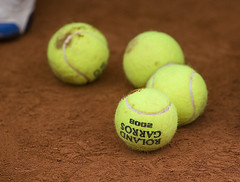tennis ball: (41, 17, 116, 90), (118, 26, 192, 91), (111, 86, 182, 151), (149, 61, 215, 127)
